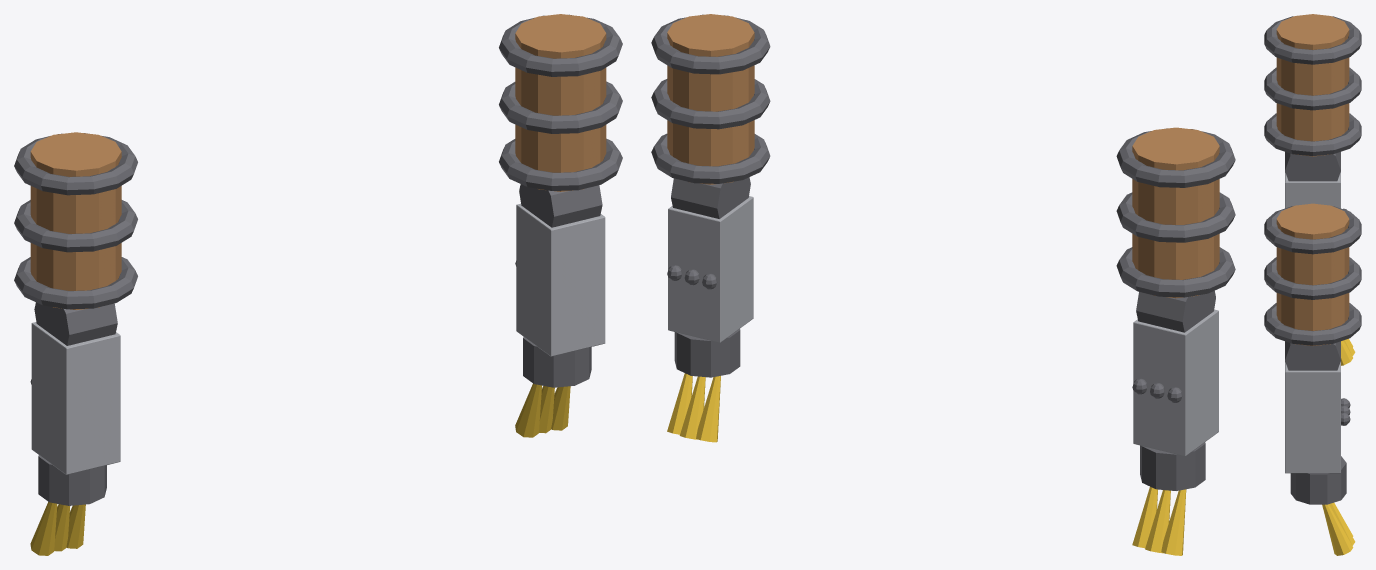
The model's file is wrecker-claw.glb.
3 renders of one model, left to right at view 1: azimuth 30°, elevation 25°; view 2: azimuth 150°, elevation 25°; view 3: azimuth 270°, elevation 25°, orthographic. The views are drawn at different scales.
Visible parts, largest first — view 1: forearm_l, forearm_r, upper_l, upper_r, rib0_l, rib0_r, rib1_l, rib2_r, rib2_l, rib1_r, elbow_r, elbow_l (+4 smaller); view 2: forearm_l, forearm_r, upper_l, upper_r, rib0_l, rib0_r, rib2_r, rib2_l, rib1_r, rib1_l, palm_l, palm_r (+8 smaller); view 3: upper_r, upper_l, forearm_l, rib0_l, rib0_r, rib2_r, rib1_l, rib1_r, rib2_l, palm_l, elbow_r, elbow_l (+4 smaller).
Boxes of the visible parts, x1=… form: forearm_l: x1=516, y1=203, x2=605, y2=356; forearm_r: x1=31, y1=322, x2=120, y2=474; upper_l: x1=515, y1=14, x2=606, y2=191; upper_r: x1=30, y1=132, x2=121, y2=309; rib0_l: x1=499, y1=14, x2=622, y2=76; rib0_r: x1=14, y1=133, x2=137, y2=195; rib1_l: x1=499, y1=81, x2=622, y2=133; rib2_r: x1=14, y1=257, x2=137, y2=309; rib2_l: x1=499, y1=138, x2=622, y2=190; rib1_r: x1=14, y1=200, x2=137, y2=252; elbow_r: x1=34, y1=302, x2=117, y2=345; elbow_l: x1=519, y1=184, x2=602, y2=227; forearm_l: x1=668, y1=196, x2=753, y2=342; forearm_r: x1=1133, y1=309, x2=1218, y2=456; upper_l: x1=667, y1=14, x2=754, y2=184; upper_r: x1=1132, y1=127, x2=1219, y2=298; rib0_l: x1=651, y1=14, x2=770, y2=74; rib0_r: x1=1116, y1=128, x2=1235, y2=187; rib2_r: x1=1116, y1=247, x2=1235, y2=297; rib2_l: x1=651, y1=133, x2=770, y2=183; rib1_r: x1=1116, y1=192, x2=1235, y2=242; rib1_l: x1=651, y1=79, x2=770, y2=129; palm_l: x1=674, y1=329, x2=740, y2=377; palm_r: x1=1140, y1=442, x2=1205, y2=490; upper_r: x1=1276, y1=14, x2=1349, y2=156; upper_l: x1=1276, y1=203, x2=1349, y2=345; forearm_l: x1=1285, y1=361, x2=1340, y2=473; rib0_l: x1=1264, y1=206, x2=1361, y2=254; rib0_r: x1=1264, y1=16, x2=1361, y2=64; rib2_r: x1=1264, y1=113, x2=1361, y2=155; rib1_l: x1=1264, y1=257, x2=1361, y2=299; rib1_r: x1=1264, y1=67, x2=1361, y2=110; rib2_l: x1=1264, y1=303, x2=1361, y2=345; palm_l: x1=1290, y1=456, x2=1346, y2=504; elbow_r: x1=1285, y1=152, x2=1340, y2=181; elbow_l: x1=1285, y1=341, x2=1340, y2=370.
Bounding box in the file's own units: 0.978 × 0.6478 × 0.1735.
